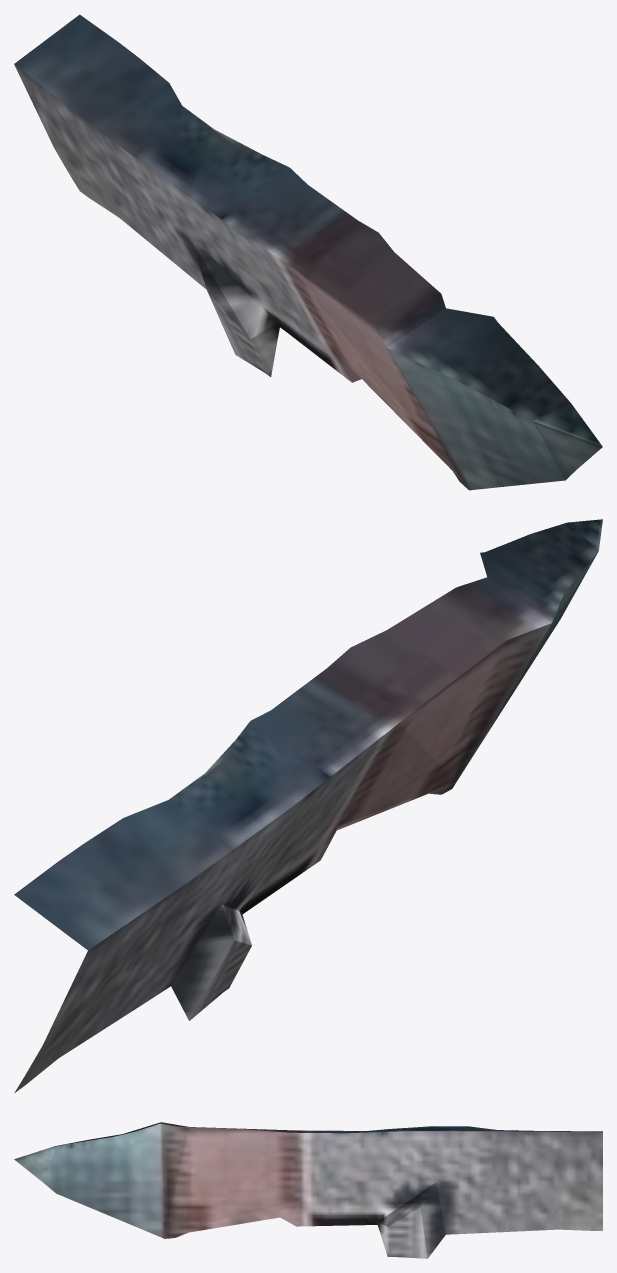
File: Tile_+031_+023_L19_000113.obj
3 views of the same model, one above another, from view 1: azimuth 30°, elevation 25°; view 2: azimuth 150°, elevation 25°; view 3: azimuth 270°, elevation 25° (orthographic). The views are drawn at different scales.
Size of the model in its own units: 1.7 by 4.32 by 18.05.
1 material, 1 textured.
